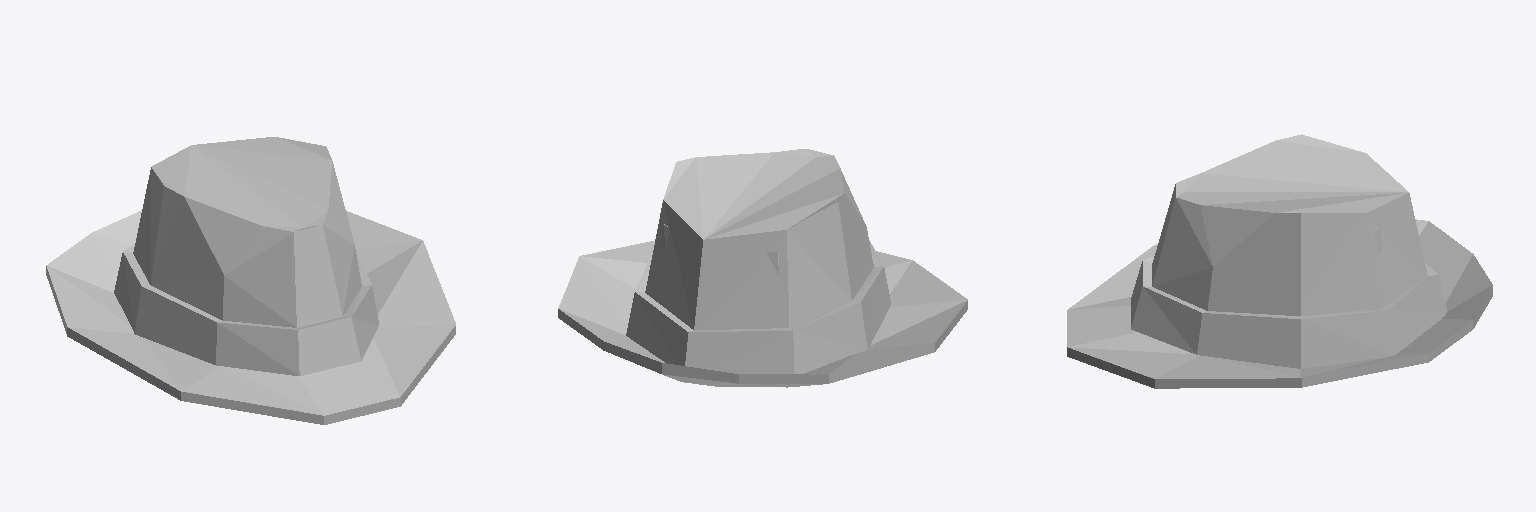
The model's file is Trilby_A__3.obj.
3 views of the same model, side by side, from view 1: azimuth 30°, elevation 25°; view 2: azimuth 150°, elevation 25°; view 3: azimuth 270°, elevation 25° (orthographic).
Parts seen in each view (by area): view 1: Cylinder1; view 2: Cylinder1; view 3: Cylinder1.
Part boxes in pixels (x1,y1,x2,y2): Cylinder1: (46,137,455,424); Cylinder1: (558,149,967,387); Cylinder1: (1067,134,1492,388).
Bounding box in the file's own units: 2.64 × 1.16 × 2.74.